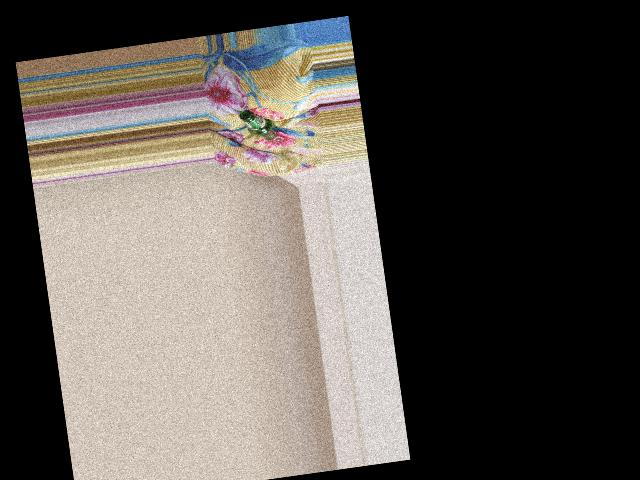beer: (238, 105, 279, 143)
